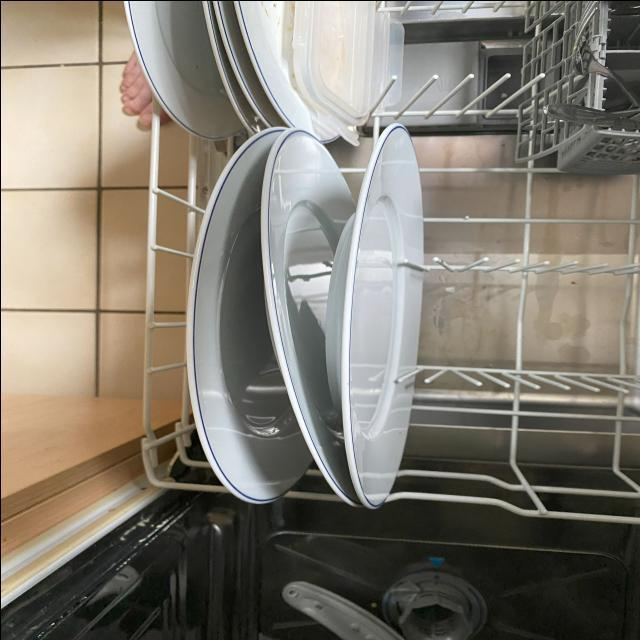empty_slot: (425, 152, 636, 504)
